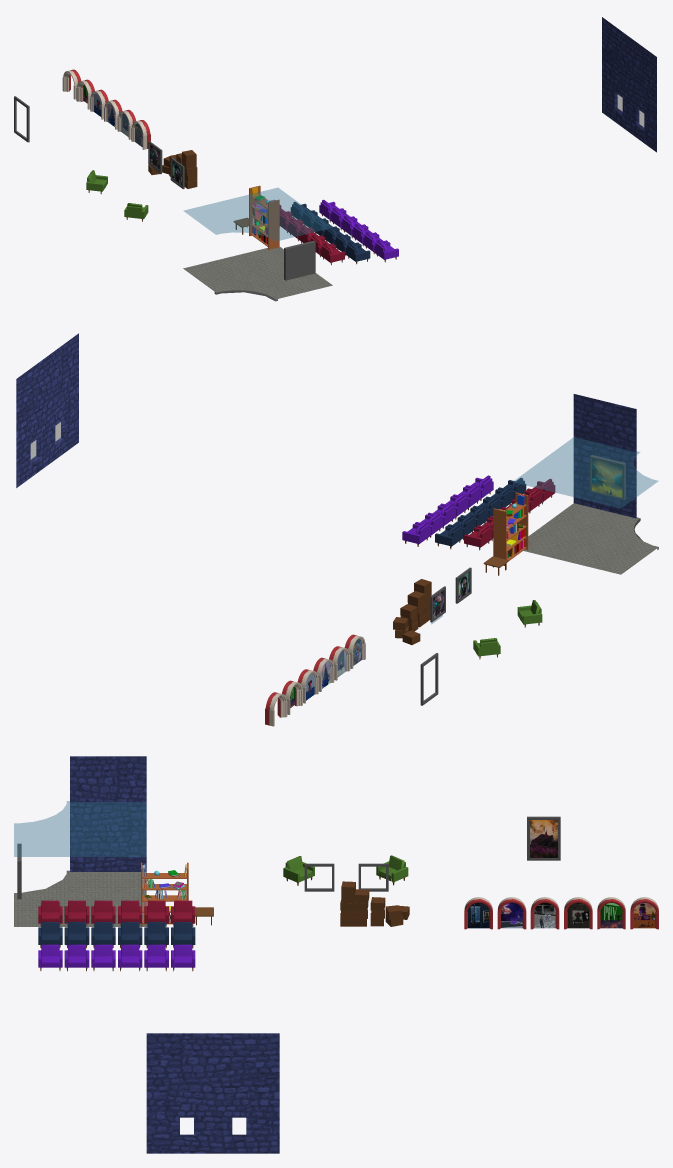
File: testcastle_level1_v1.glb
3 renders of one model, top to bottom at view 1: azimuth 30°, elevation 25°; view 2: azimuth 150°, elevation 25°; view 3: azimuth 270°, elevation 25°, orthographic. The views are drawn at different scales.
Visible parts, largest first — view 1: Turret Entr, Floor.Ceiling.1Wall.2Window.010, bookshelf, NFTFrame15.001; view 2: Turret Entr, Floor.Ceiling.1Wall.2Window.010, bookshelf, NFTFrame15.001; view 3: Floor.Ceiling.1Wall.2Window.010, Turret Entr, bookshelf, 1-Picture.001, Armchair_lambert1_0.006, Armchair_lambert1_0.018, Armchair_lambert1_0.014, Armchair_lambert1_0.016, Armchair_lambert1_0.017.
Part boxes in pixels (left/top/right/bottom): Turret Entr: left=183, top=188, right=332, bottom=301; Floor.Ceiling.1Wall.2Window.010: left=602, top=17, right=656, bottom=152; bookshelf: left=249, top=185, right=279, bottom=249; NFTFrame15.001: left=284, top=240, right=315, bottom=280; Turret Entr: left=513, top=394, right=658, bottom=574; Floor.Ceiling.1Wall.2Window.010: left=16, top=333, right=78, bottom=487; bookshelf: left=493, top=492, right=528, bottom=565; NFTFrame15.001: left=589, top=455, right=625, bottom=500; Floor.Ceiling.1Wall.2Window.010: left=146, top=1033, right=279, bottom=1153; Turret Entr: left=14, top=756, right=146, bottom=926; bookshelf: left=141, top=862, right=188, bottom=926; 1-Picture.001: left=530, top=820, right=557, bottom=857; Armchair_lambert1_0.006: left=64, top=944, right=89, bottom=971; Armchair_lambert1_0.018: left=171, top=944, right=195, bottom=971; Armchair_lambert1_0.014: left=38, top=944, right=62, bottom=970; Armchair_lambert1_0.016: left=91, top=944, right=115, bottom=970; Armchair_lambert1_0.017: left=144, top=944, right=168, bottom=971.
Size of what is drawn, in the model's own units: 50 by 10 by 48.56.
Materials: 39 (19 with a texture image).
